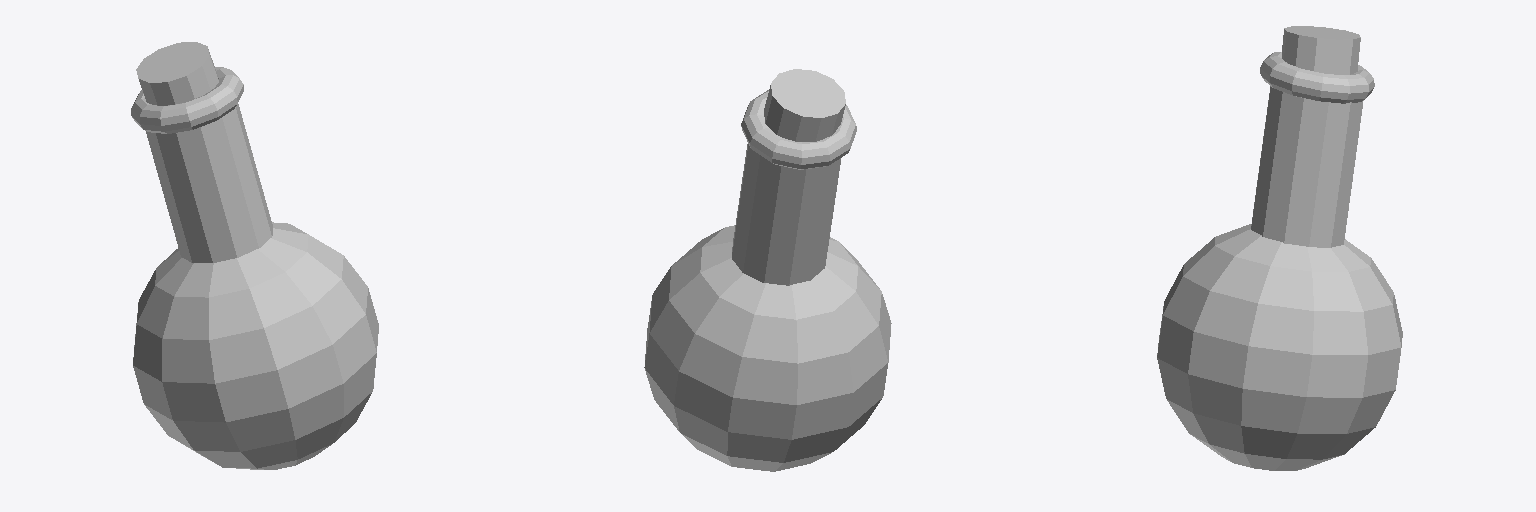
The model's file is potion.obj.
3 renders of one model, left to right at view 1: azimuth 30°, elevation 25°; view 2: azimuth 150°, elevation 25°; view 3: azimuth 270°, elevation 25°, orthographic.
Parts seen in each view (by area): view 1: group[number redacted]; view 2: group[number redacted]; view 3: group[number redacted].
Boxes of the visible parts, <box> form: group[number redacted]: <box>131,42,378,469</box>; group[number redacted]: <box>644,69,891,471</box>; group[number redacted]: <box>1157,26,1402,470</box>.
Size of the model in its own units: 0.1031 by 0.187 by 0.1024.